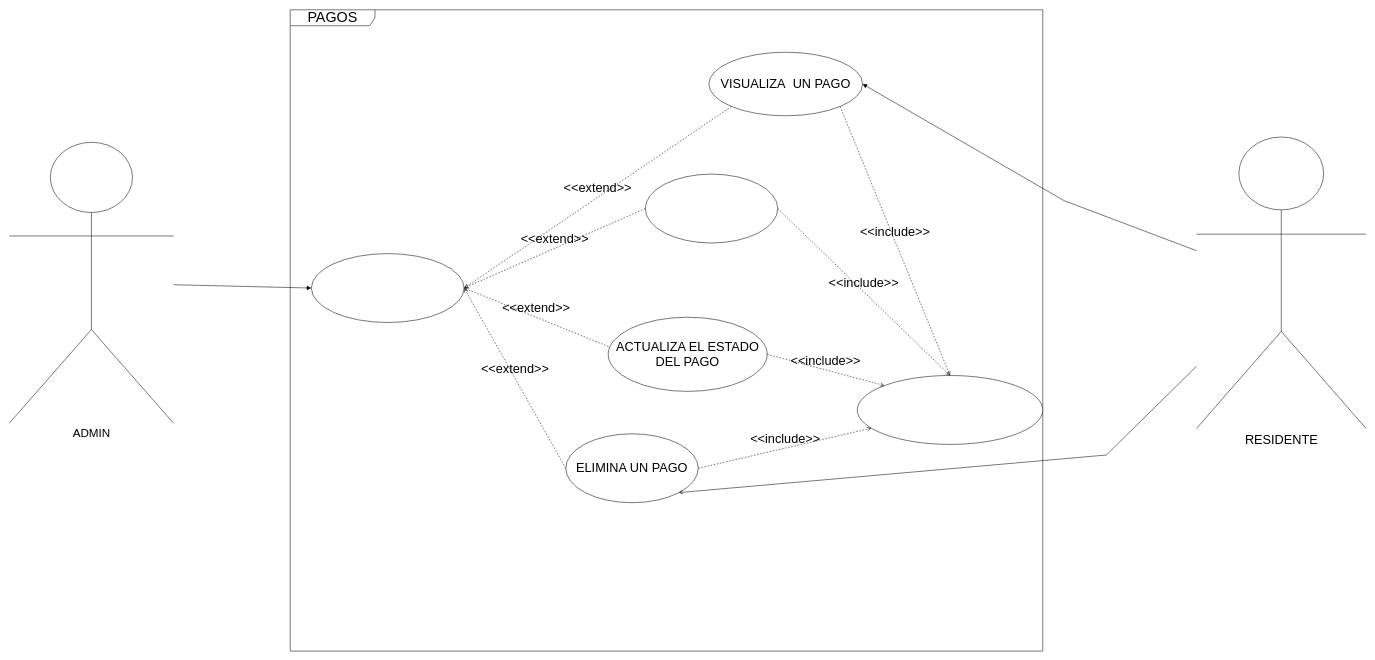
The diagram is 1375 pixels wide and 660 high, and some of its shapes have lost their labels. The centre of each missing label's shape, as x and y in pixels:
Gestión Aportes: point (387, 288)
INSERTA UN PAGO: point (711, 208)
OBTIENE EL PAGO POR EL APARTAMENTO: point (950, 409)
